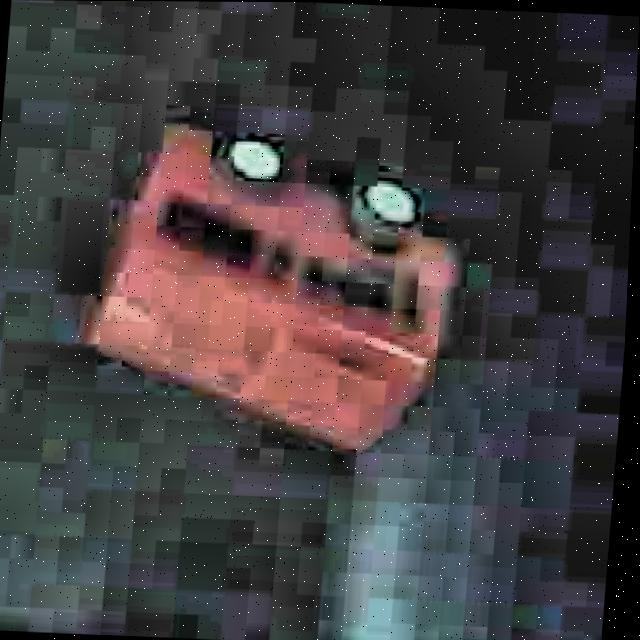bus: (73, 124, 479, 462)
